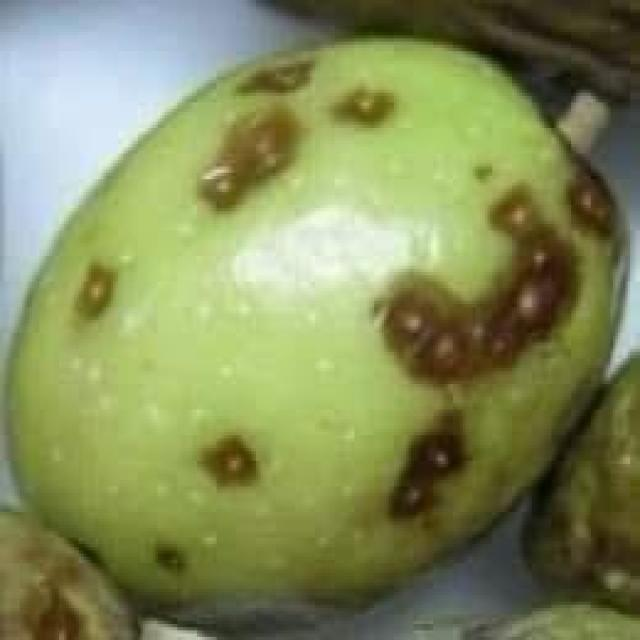Anthracnose: (8, 35, 622, 621)
